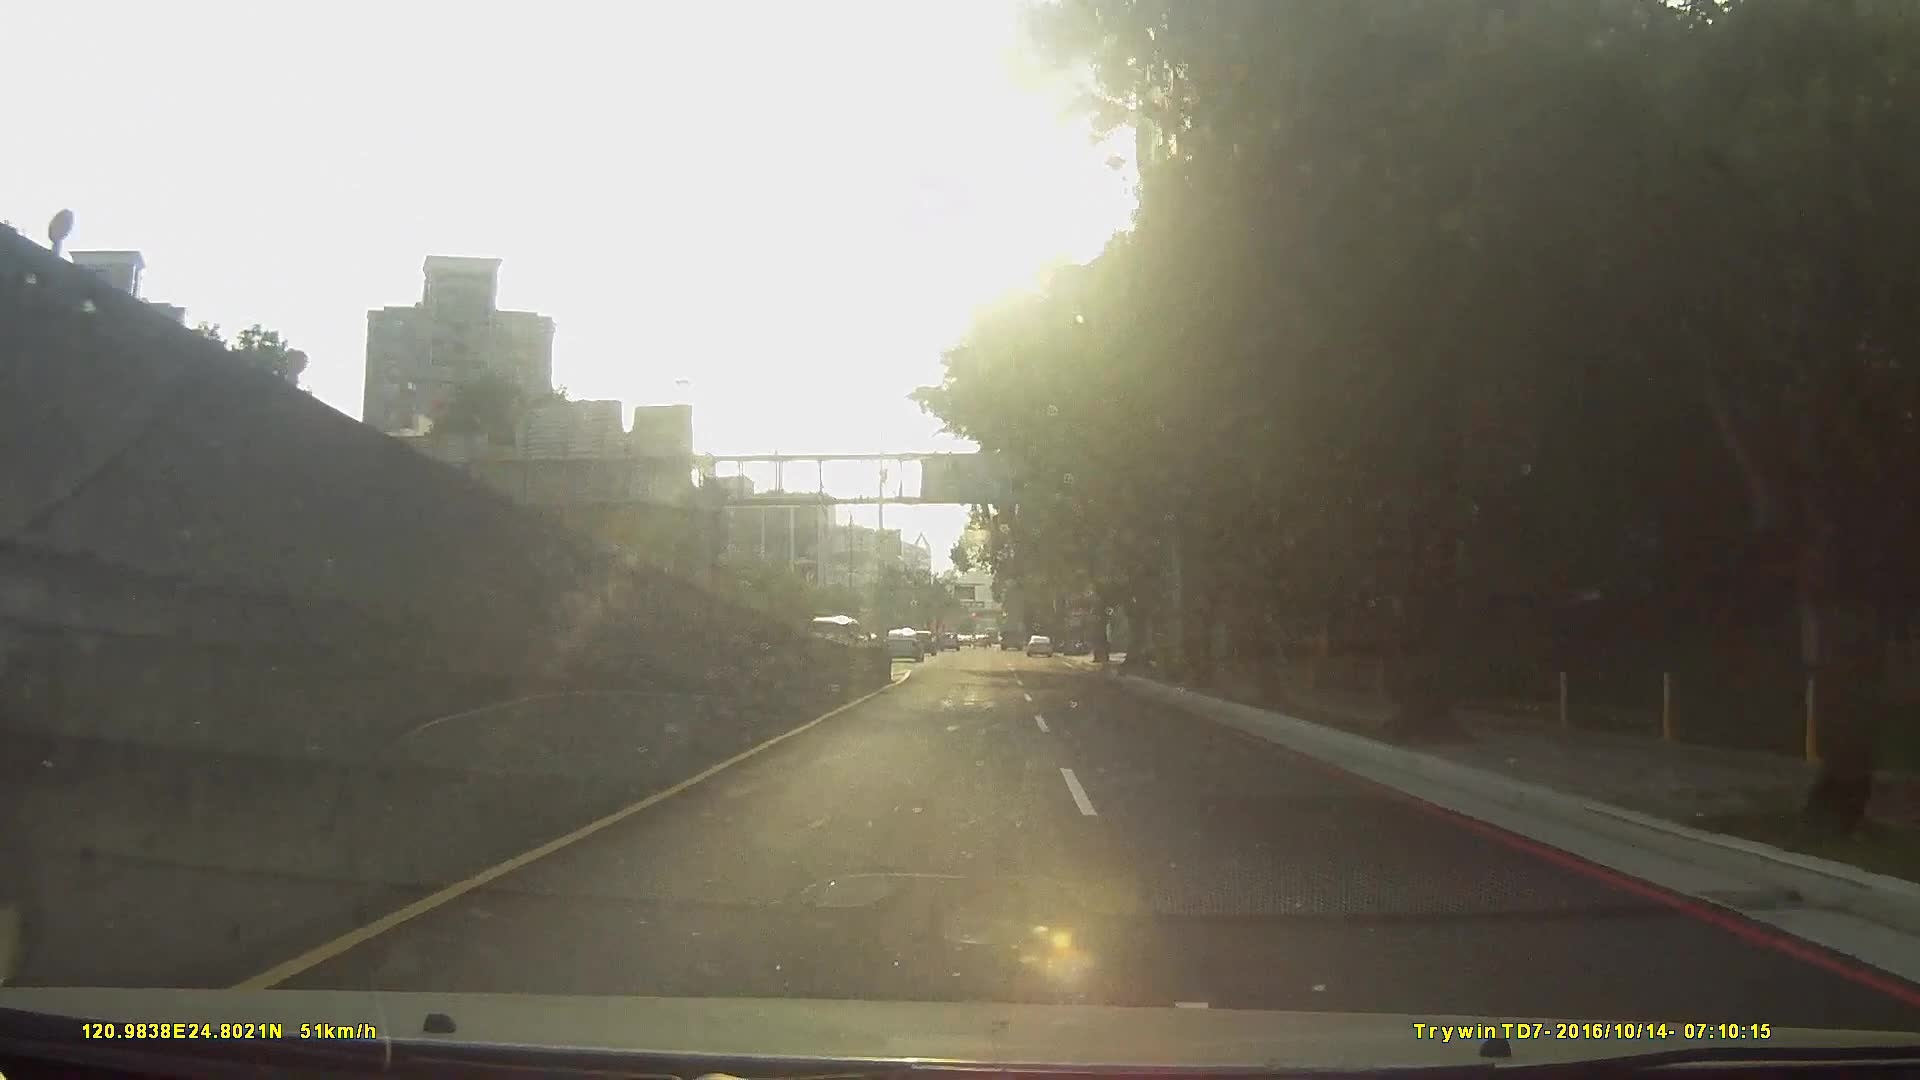vehicle: (880, 626, 923, 663), (998, 613, 1025, 649), (1023, 633, 1054, 657)
